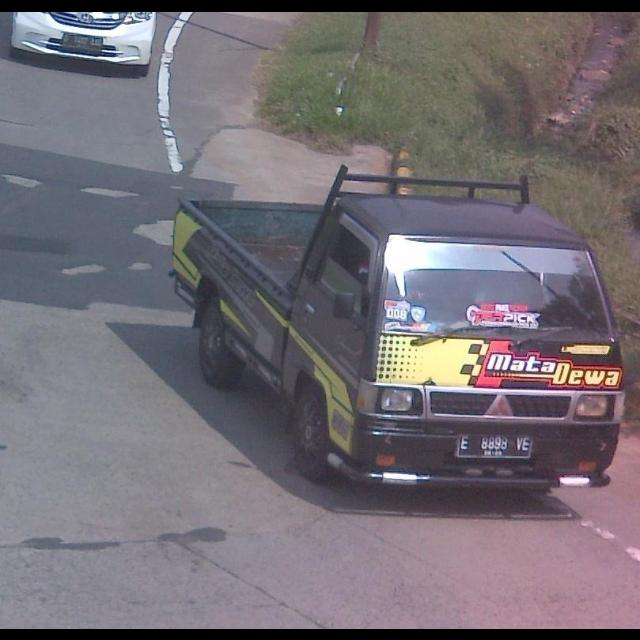plate: (454, 431, 536, 462)
